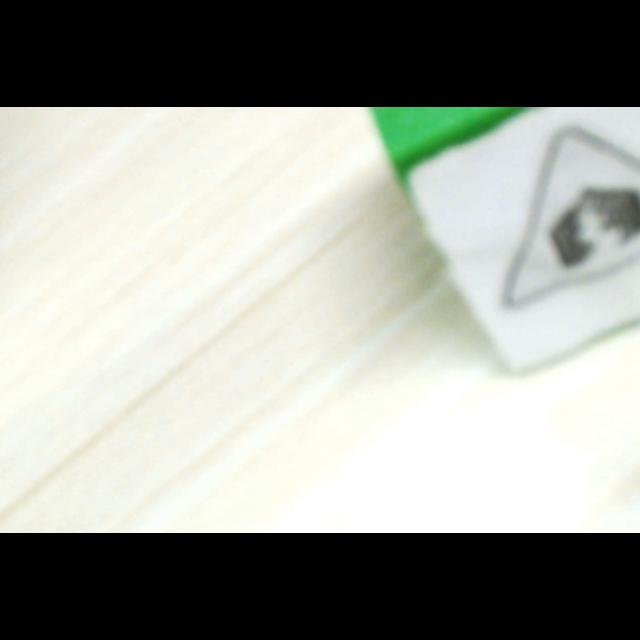Earthquake: (505, 127, 640, 306)
